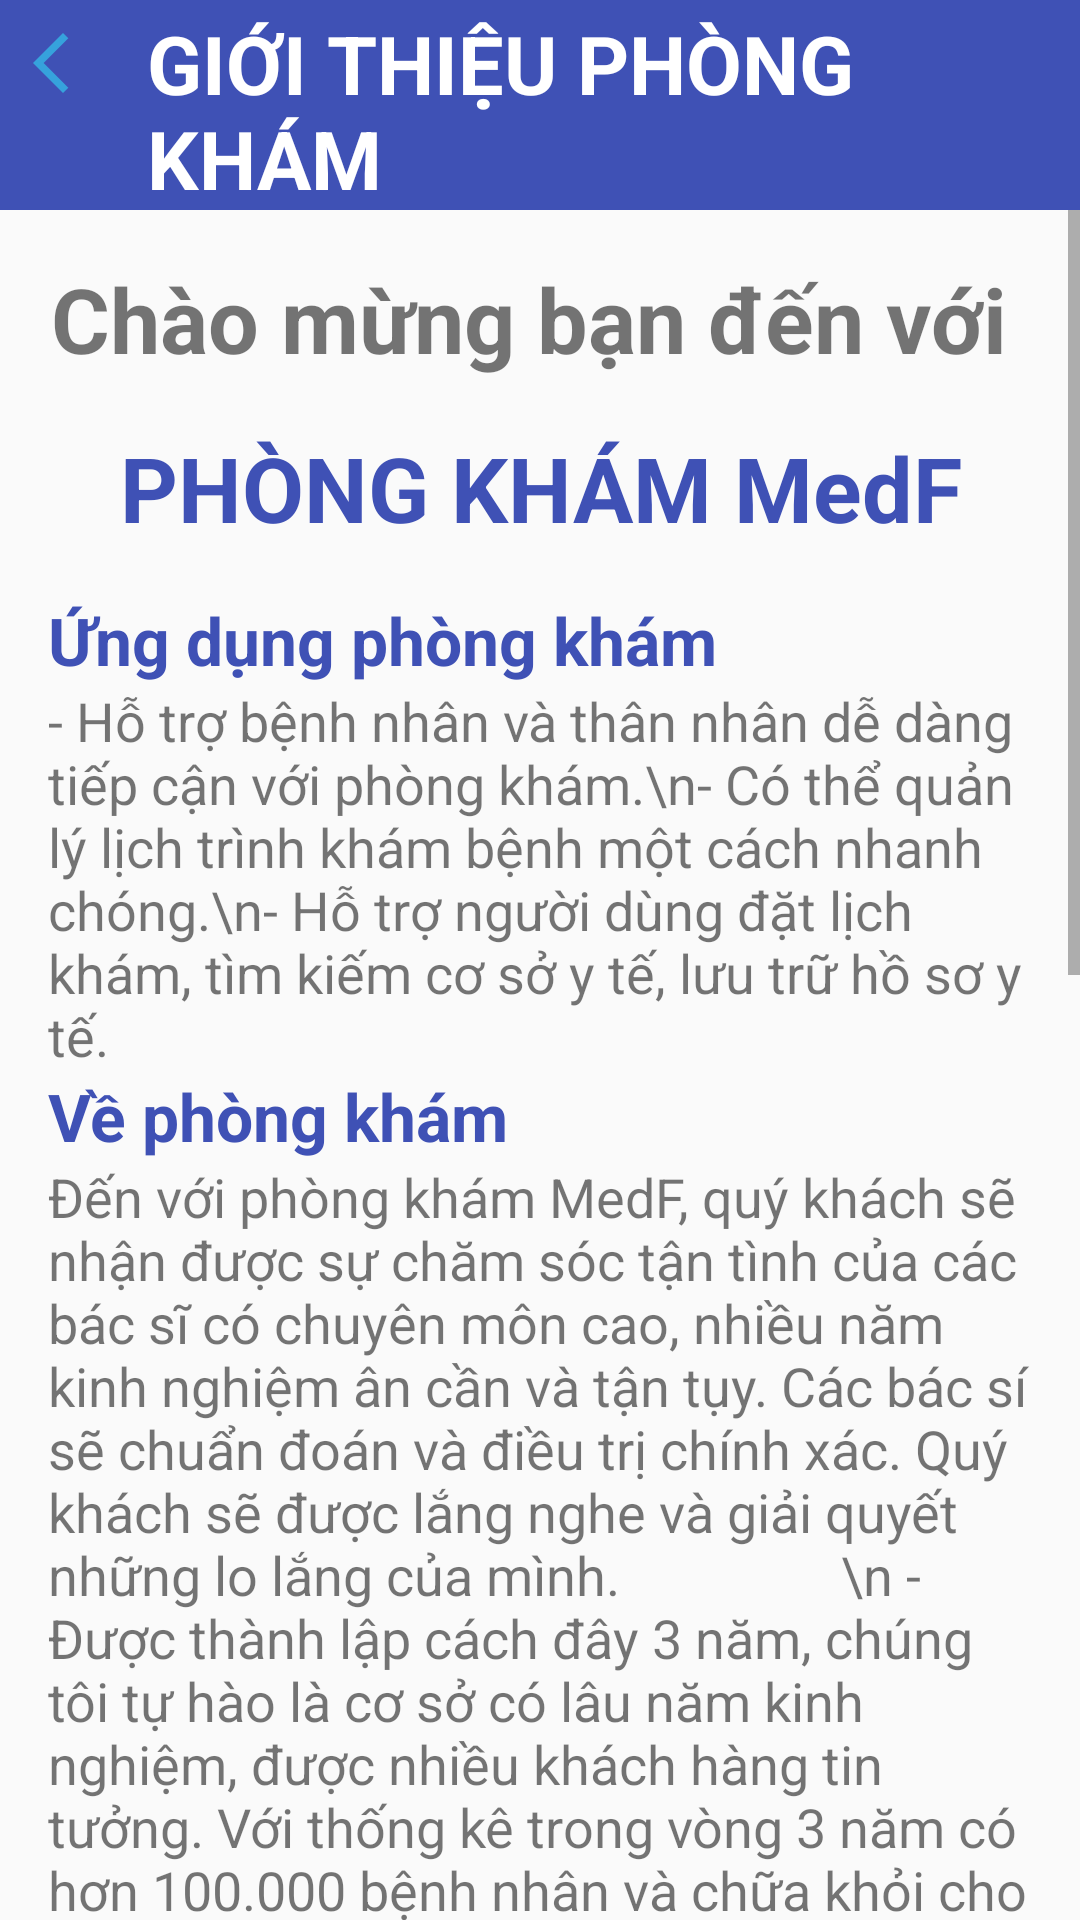

Icons on this 1080 x 1920 Android screen, each with its box as region(x1, y1, x2, y2):
arrow back: region(33, 33, 68, 93)
